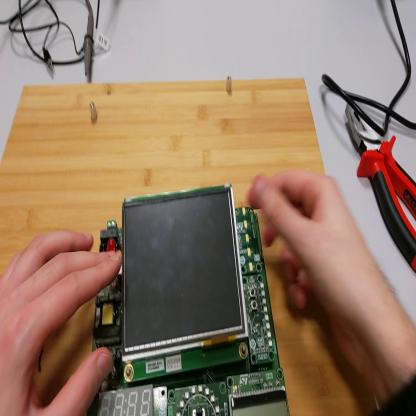hand: (250, 169, 385, 378), (2, 227, 122, 416)
low voltage board: (92, 206, 290, 414)
oscilloscope probe tip: (83, 2, 98, 81)
pliers: (346, 99, 416, 273)
working area: (1, 53, 381, 415)
